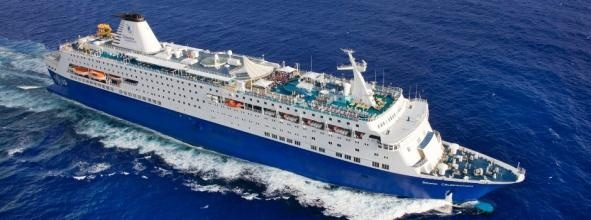youlun: (39, 11, 529, 204)
